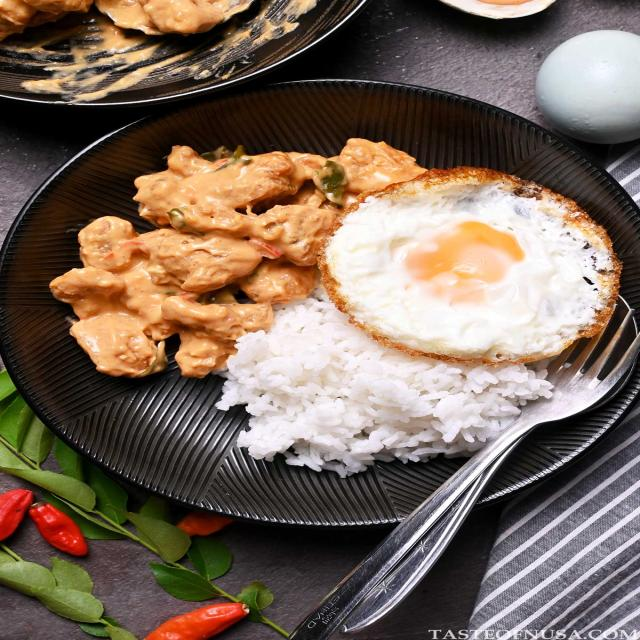Chicken: (50, 139, 425, 377)
Egg: (318, 167, 621, 364)
Rice: (216, 290, 552, 477)
